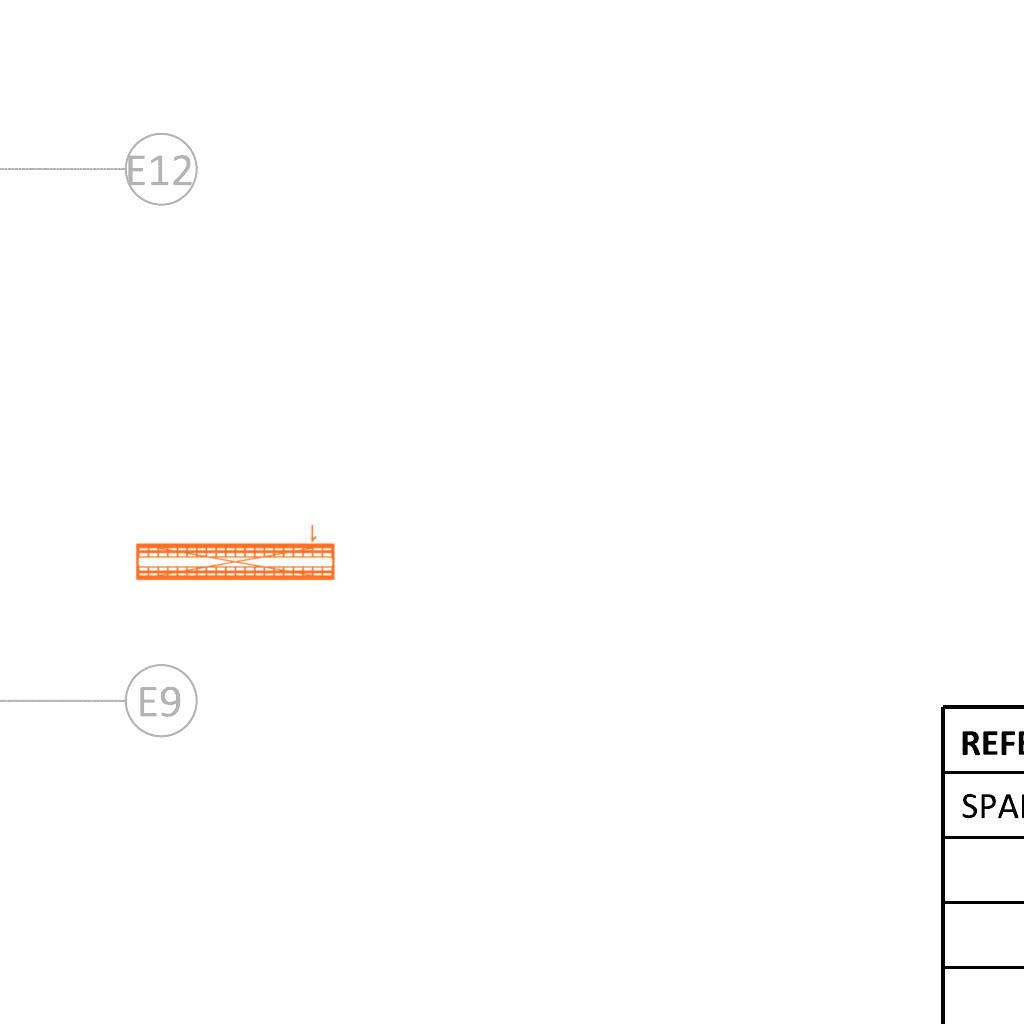Buero_Pendelleuchten_LED: (132, 520, 338, 585)
